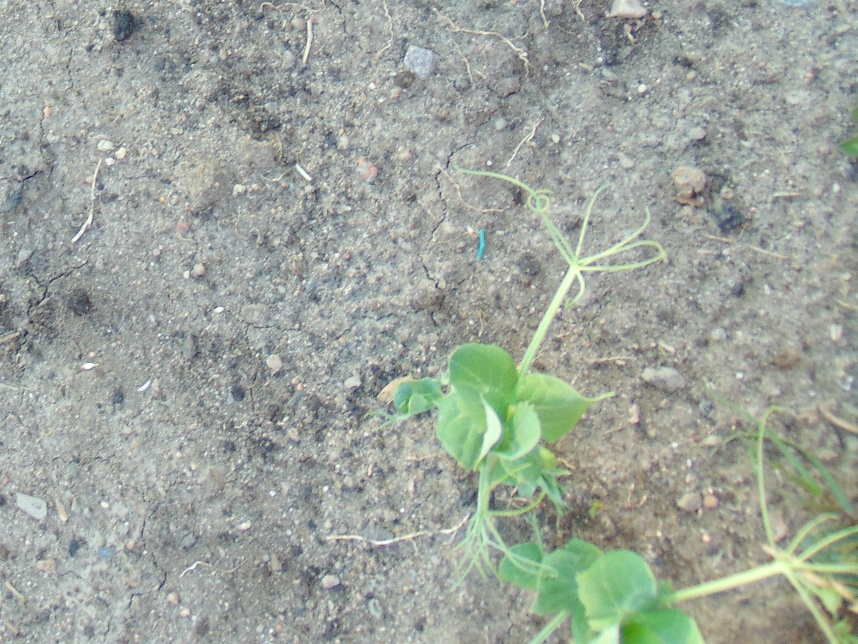crop: (417, 179, 653, 560), (497, 509, 858, 644)
